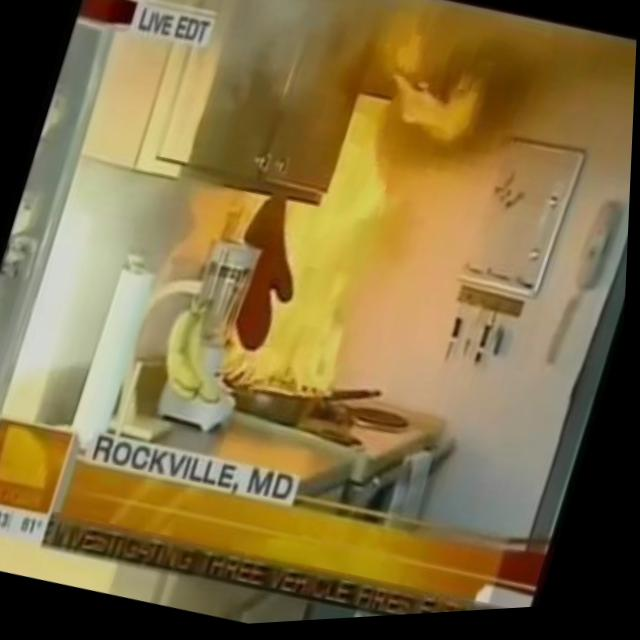fire: (223, 0, 502, 431)
